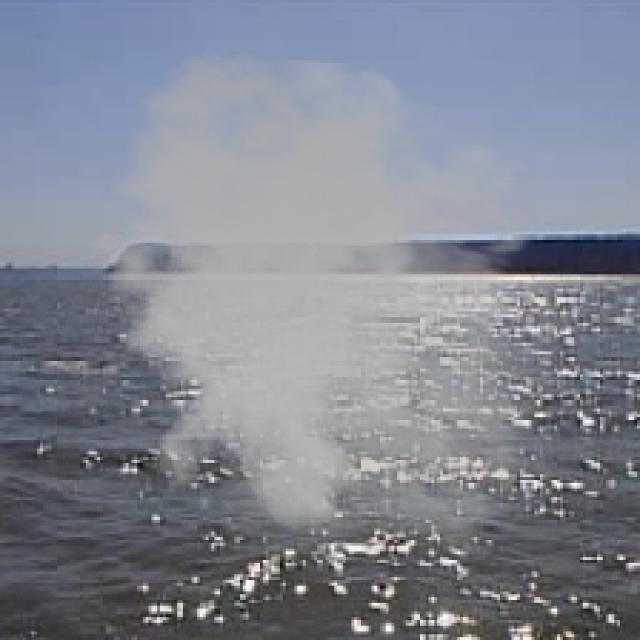smoke: (71, 49, 592, 580)
